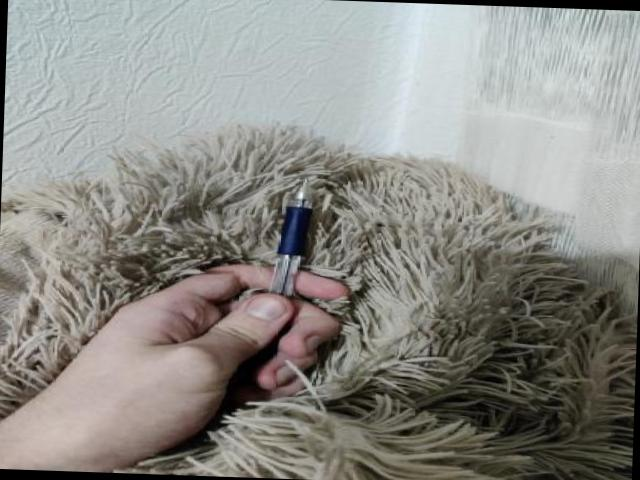PEN: (271, 178, 317, 298)
